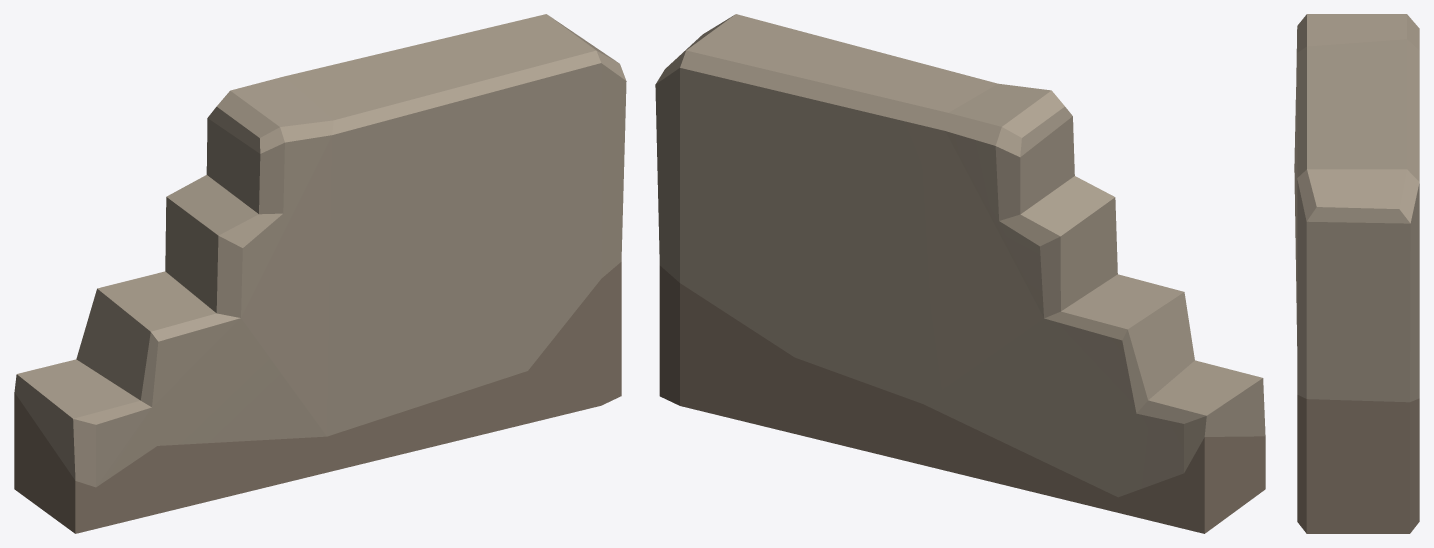
The model's file is SM_Bld_Mexican_Wall_Small_End_01.glb.
3 views of the same model, side by side, from view 1: azimuth 30°, elevation 25°; view 2: azimuth 150°, elevation 25°; view 3: azimuth 270°, elevation 25° (orthographic).
Parts seen in each view (by area): view 1: SM_Bld_Mexican_Wall_Small_End_01; view 2: SM_Bld_Mexican_Wall_Small_End_01; view 3: SM_Bld_Mexican_Wall_Small_End_01.
Part boxes in pixels (left/top/right/bottom): SM_Bld_Mexican_Wall_Small_End_01: left=14, top=14, right=626, bottom=533; SM_Bld_Mexican_Wall_Small_End_01: left=655, top=14, right=1265, bottom=533; SM_Bld_Mexican_Wall_Small_End_01: left=1294, top=14, right=1419, bottom=533.
Size of the model in its own units: 2.16 by 1.31 by 0.4199.
Materials: 1 (1 with a texture image).
